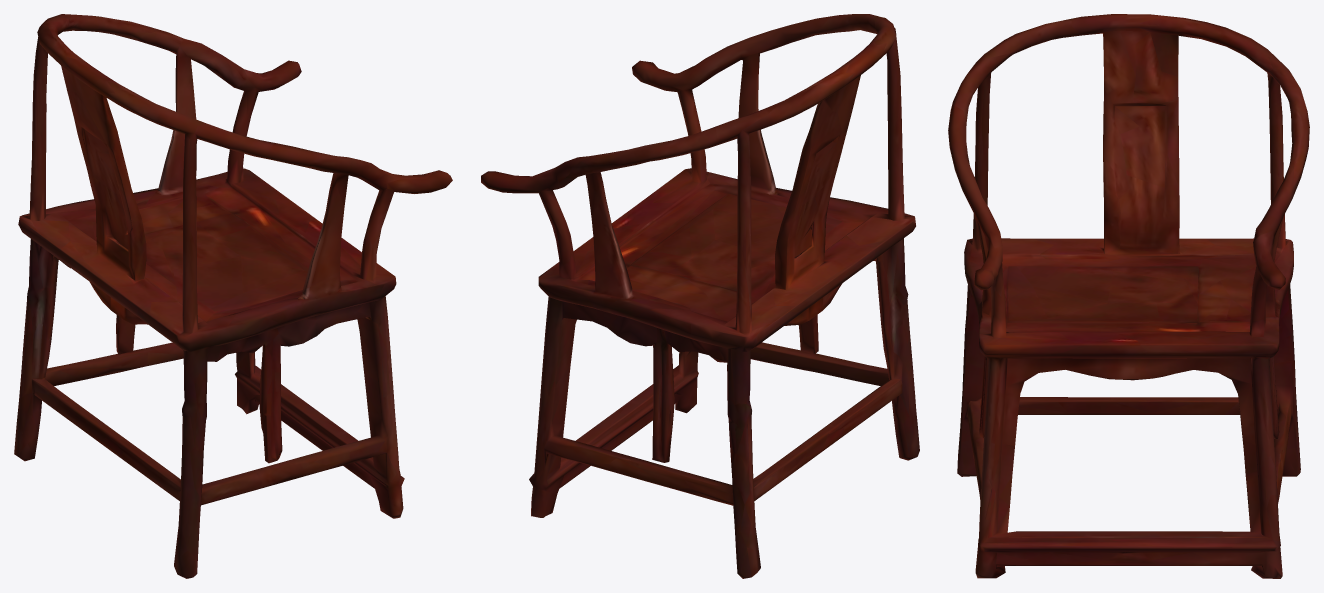
File: hw_guanmao.glb
3 views of the same model, side by side, from view 1: azimuth 30°, elevation 25°; view 2: azimuth 150°, elevation 25°; view 3: azimuth 270°, elevation 25° (orthographic). The views are drawn at different scales.
Visible parts, largest first — view 1: tripo_node_58077dbc-8c4f-4658-a456-548ed8f2817f; view 2: tripo_node_58077dbc-8c4f-4658-a456-548ed8f2817f; view 3: tripo_node_58077dbc-8c4f-4658-a456-548ed8f2817f.
Boxes of the visible parts, x1,y1,x2,y2 form: tripo_node_58077dbc-8c4f-4658-a456-548ed8f2817f: (14,14,452,578); tripo_node_58077dbc-8c4f-4658-a456-548ed8f2817f: (481,14,919,578); tripo_node_58077dbc-8c4f-4658-a456-548ed8f2817f: (948,14,1309,578).
Bounding box in the file's own units: 0.687 × 1 × 0.7269.
1 material, 1 textured.
